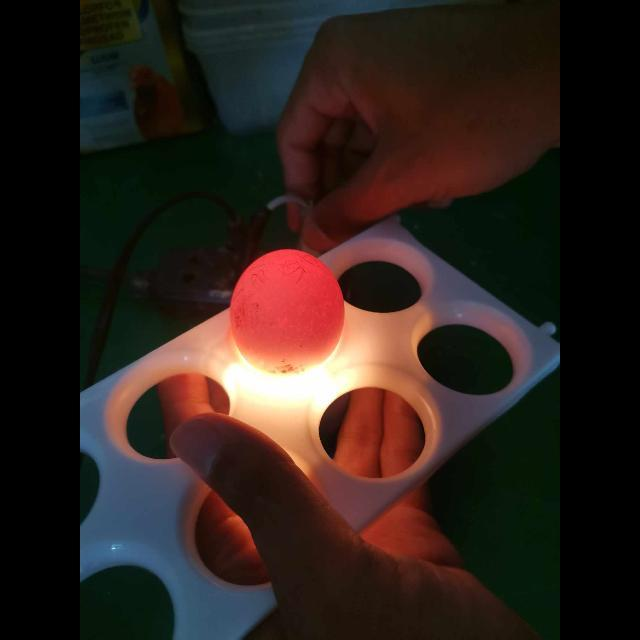Infertile: (233, 249, 345, 371)
